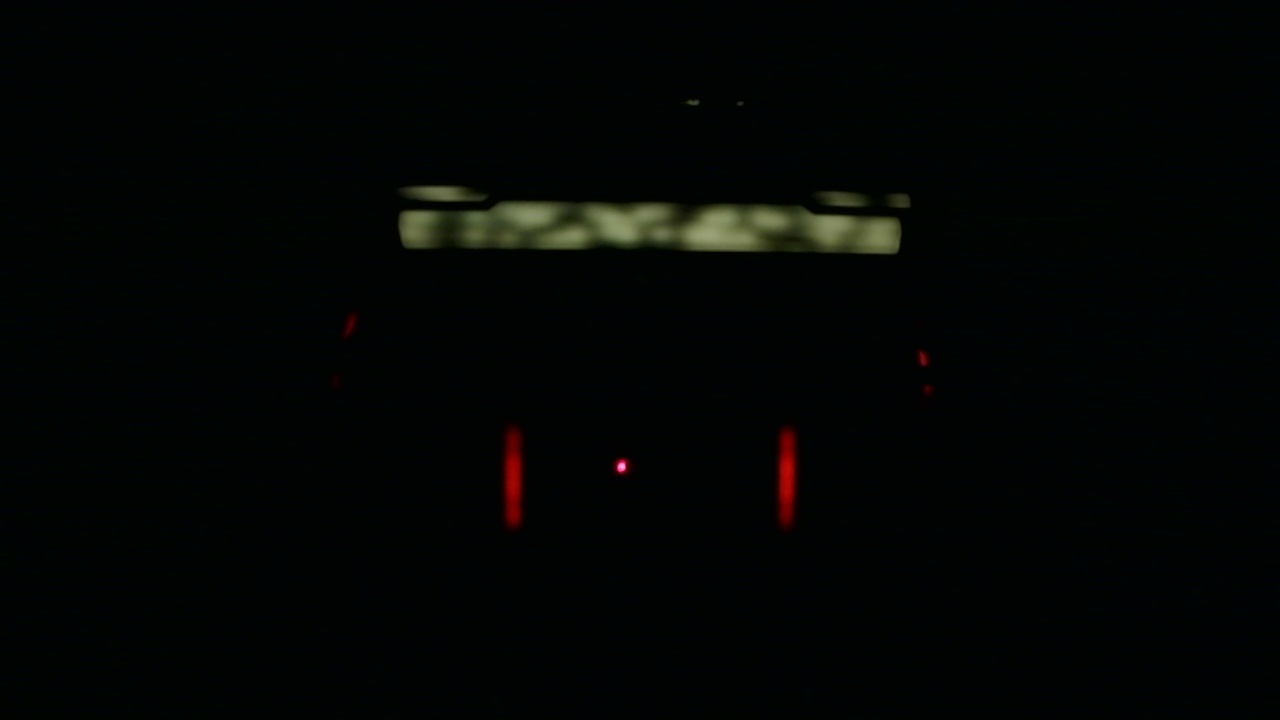lamp: (504, 431, 527, 525), (778, 429, 791, 524)
pair1: (505, 429, 794, 524)
